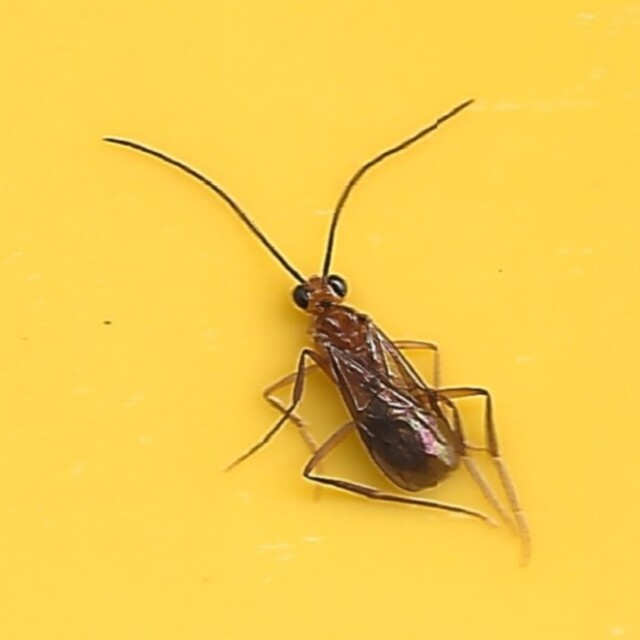Plecoptera: (117, 103, 523, 537)
